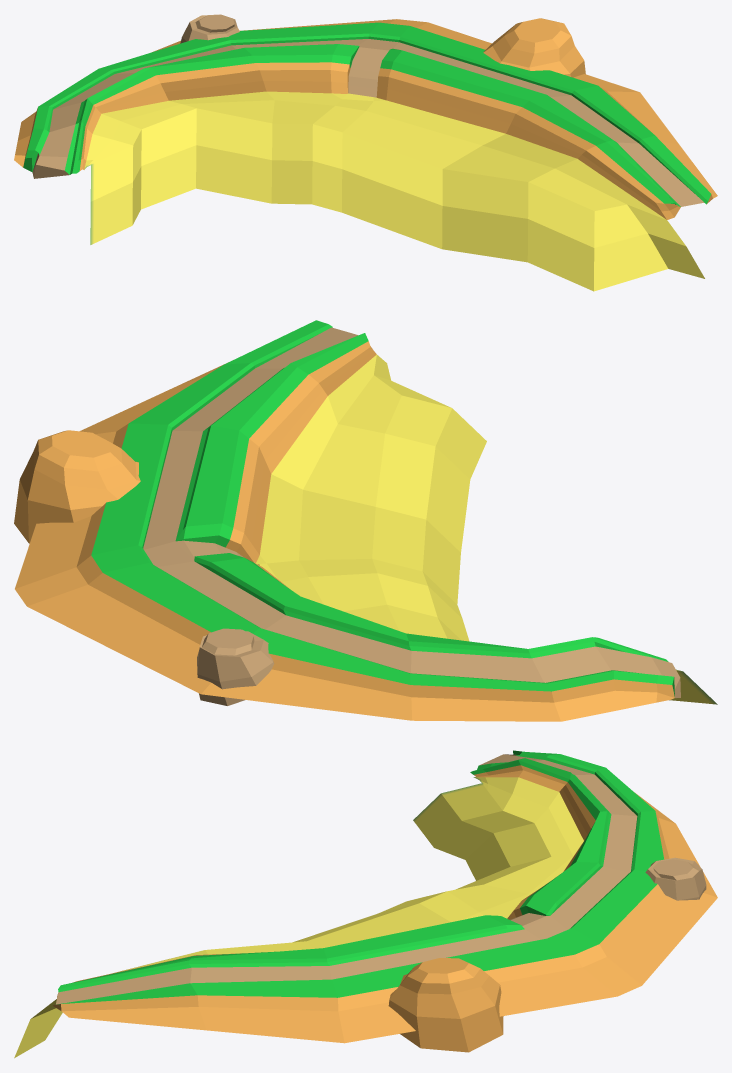
The model's file is island_1_test.fbx.
3 views of the same model, one above another, from view 1: azimuth 30°, elevation 25°; view 2: azimuth 150°, elevation 25°; view 3: azimuth 270°, elevation 25° (orthographic). The views are drawn at different scales.
Parts seen in each view (by area): view 1: Plane; view 2: Plane; view 3: Plane.
Part boxes in pixels (<box>): Plane: <box>14,14,717,291</box>; Plane: <box>14,320,717,721</box>; Plane: <box>14,750,717,1058</box>.
Size of the model in its own units: 20539 by 3873 by 21200.
